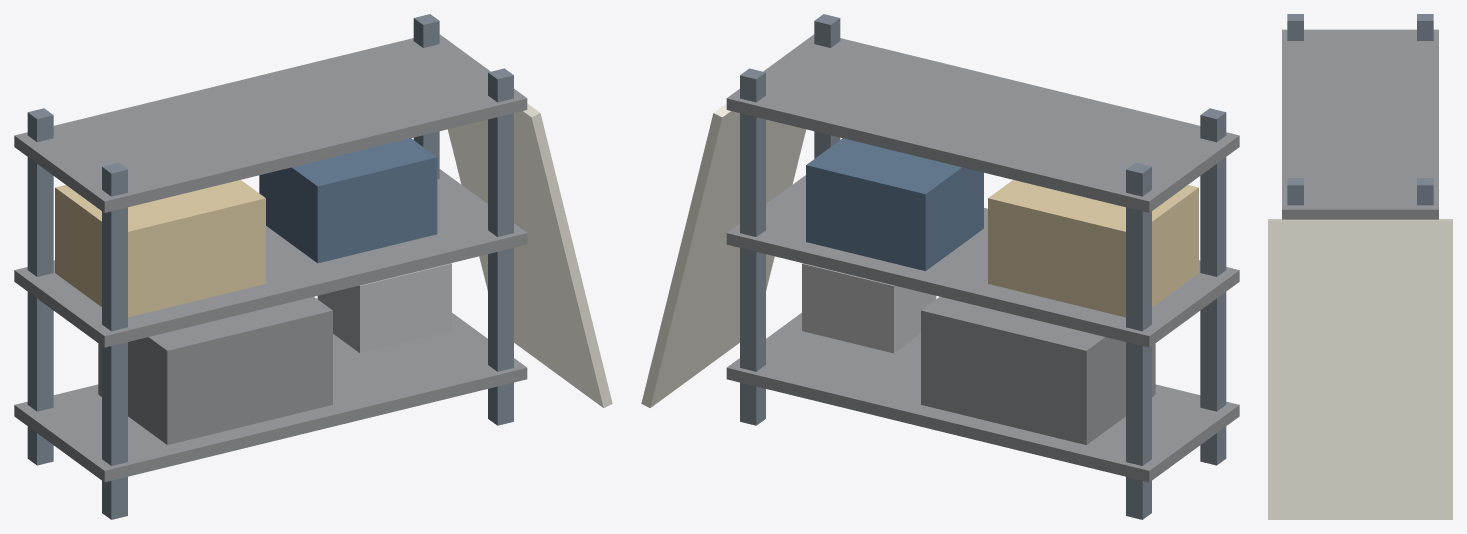
File: parts-rack-lod1.glb
3 renders of one model, left to right at view 1: azimuth 30°, elevation 25°; view 2: azimuth 150°, elevation 25°; view 3: azimuth 270°, elevation 25°, orthographic. The views are drawn at different scales.
Visible parts, largest first — view 1: Shelf.002, Crate, Shelf, Crate.001, Shelf.001, SparePanel, Crate.002, PipeBundle, Post.004, Post.006, Post.005, Post.007; view 2: Shelf.002, Crate, Shelf, Crate.001, SparePanel, Crate.002, Shelf.001, PipeBundle, Post.005, Post.007, Post.004, Post.006; view 3: SparePanel, Shelf.002, Post.006, Post.007, Post.004, Post.005.
Part boxes in pixels (box(x1,y1,x2,y2)): Shelf.002: box(14, 34, 527, 212); Crate: box(98, 296, 332, 444); Shelf: box(14, 313, 527, 482); Crate.001: box(55, 180, 265, 317); Shelf.001: box(14, 169, 527, 347); SparePanel: box(447, 103, 612, 407); Crate.002: box(259, 138, 437, 263); PipeBundle: box(317, 263, 451, 353); Post.004: box(102, 162, 127, 519); Post.006: box(488, 68, 513, 425); Post.005: box(27, 108, 53, 465); Post.007: box(413, 14, 439, 179); Shelf.002: box(726, 34, 1239, 212); Crate: box(921, 296, 1155, 444); Shelf: box(726, 313, 1239, 482); Crate.001: box(988, 180, 1198, 317); SparePanel: box(641, 103, 806, 407); Crate.002: box(806, 138, 983, 270); Shelf.001: box(726, 175, 1239, 347); PipeBundle: box(802, 263, 936, 353); Post.005: box(1126, 162, 1151, 519); Post.007: box(740, 68, 765, 425); Post.004: box(1200, 108, 1226, 465); Post.006: box(814, 14, 840, 158); SparePanel: box(1268, 219, 1452, 519); Shelf.002: box(1282, 29, 1438, 219); Post.006: box(1287, 178, 1303, 205); Post.007: box(1417, 178, 1433, 205); Post.004: box(1287, 14, 1303, 40); Post.005: box(1417, 14, 1433, 40).
Size of the model in its own units: 2.72 by 1.8 by 1.
